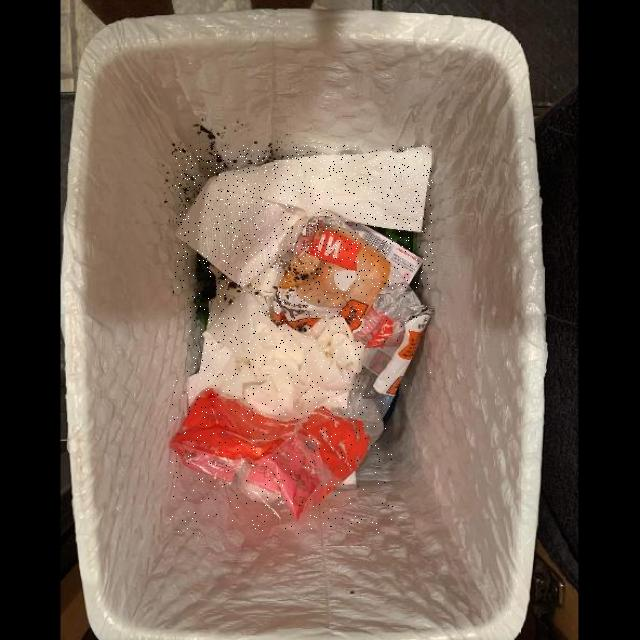paper: (175, 145, 433, 290), (188, 281, 365, 415)
plastic: (170, 365, 394, 534), (269, 211, 433, 394)
